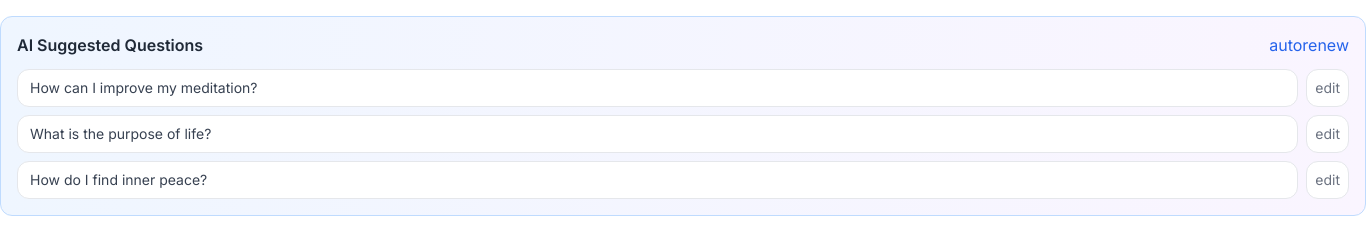
Test: SuggestedQueries › allows editing AI suggested prompts
The width and height of the screenshot is (1366, 233).
Expected: the text "AI Suggested Questions" is shown, [17, 33, 203, 57]
# Click edit button for first suggestion
Step 1. Click the 1st button titled "Edit this question" → {"x": 1328, "y": 88}, box [1306, 69, 1349, 107]
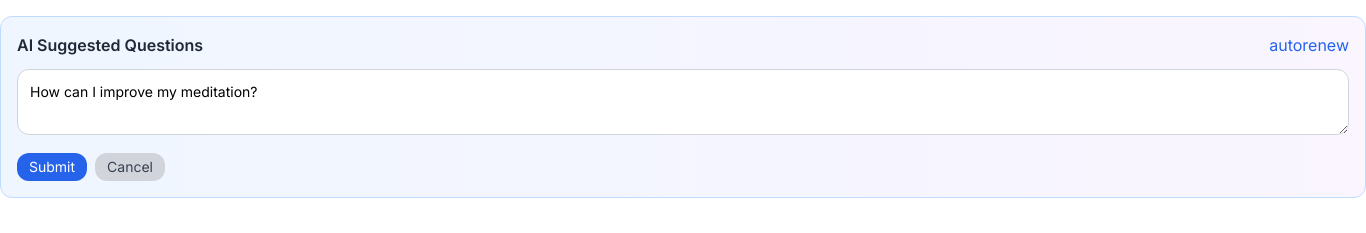
Result: the text box with placeholder "Edit your question..." is shown at [17, 69, 1349, 135]
